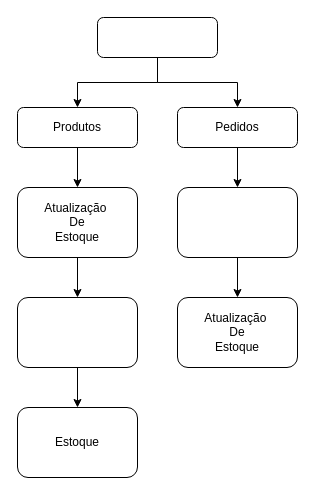
Some shapes in this 315 by 495 pixel diagram are drawn without their labels. The centre of each missing label's shape, as x and y in pixels:
"Controle de Estoque" belongs at point (157, 37).
"Monitoramento Do Estoque" belongs at point (77, 332).
"Recebimento De Produtos" belongs at point (237, 222).
